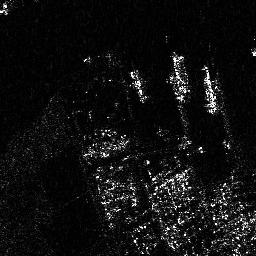ship: (172, 54, 189, 102), (204, 65, 218, 113)
